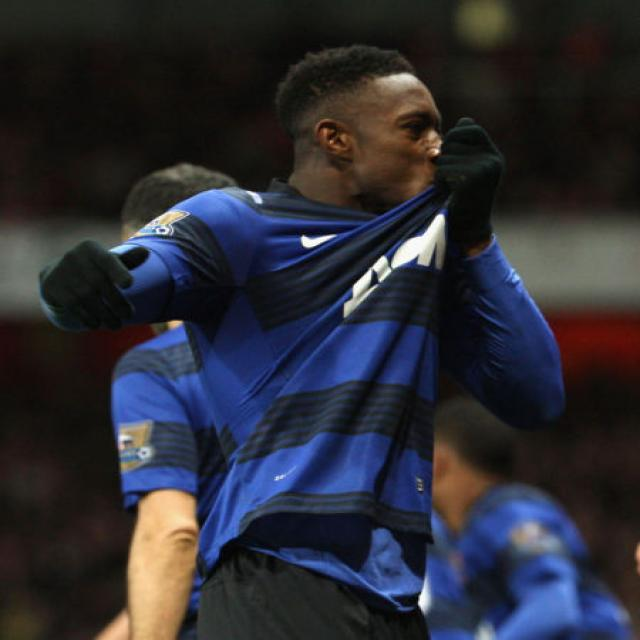nomask: (349, 74, 445, 201)
